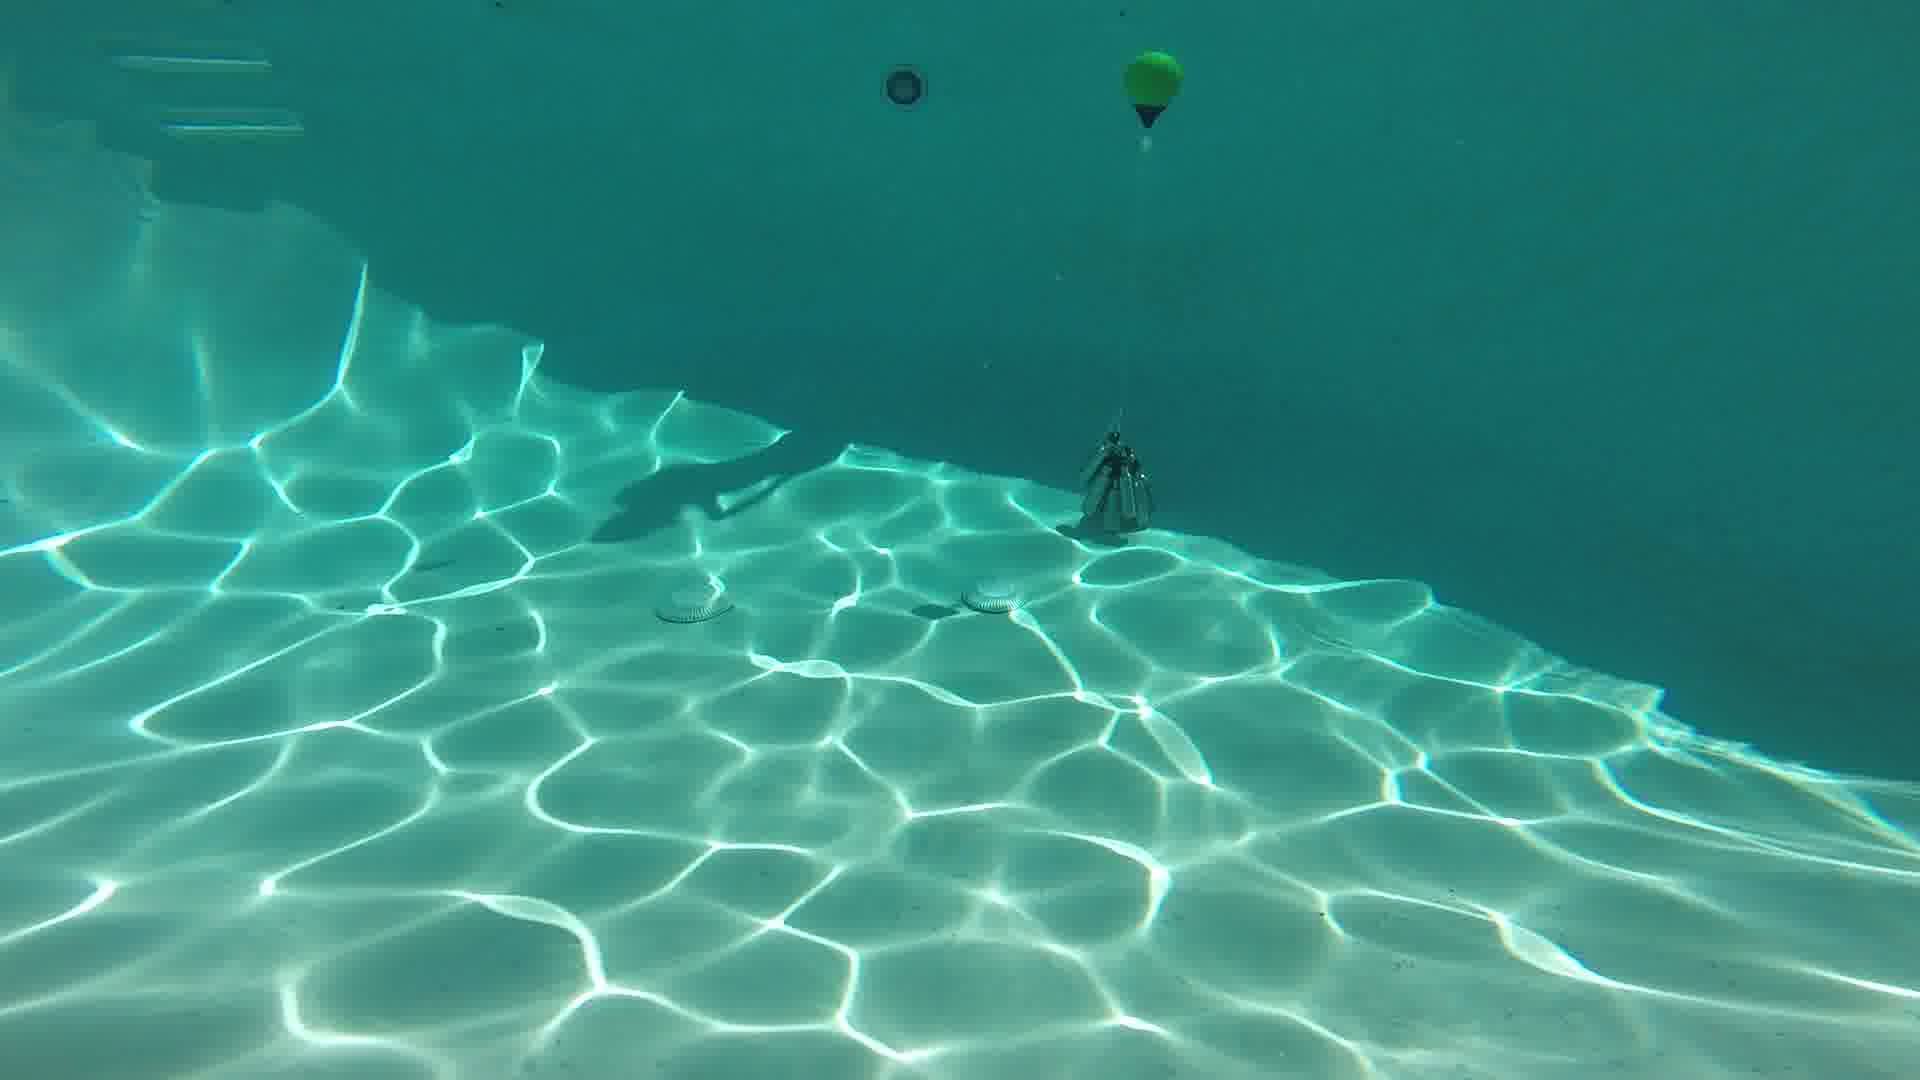yellow_buoy: (1125, 51, 1182, 129)
